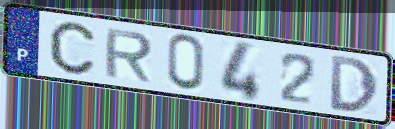0: (165, 32, 206, 94)
2: (278, 52, 319, 107)
4: (218, 39, 264, 104)
C: (47, 20, 97, 77)
D: (328, 53, 380, 115)
R: (102, 27, 156, 85)
